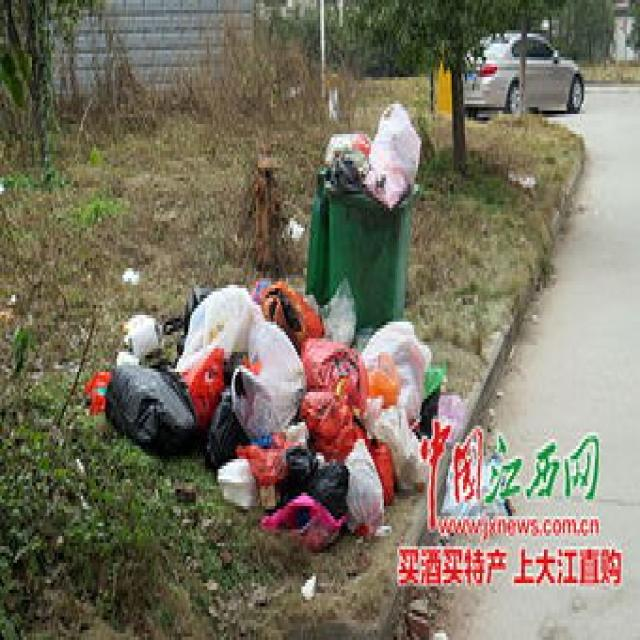garbage: (83, 262, 459, 550)
overflow: (303, 97, 420, 325)
